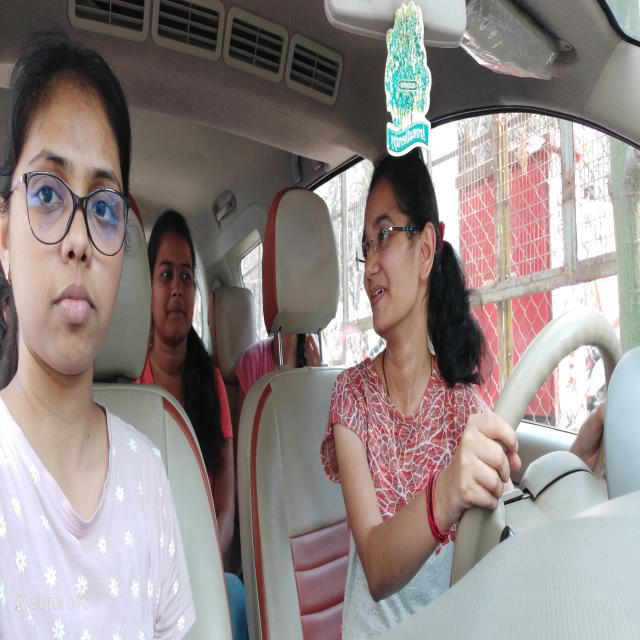LeftRight: (354, 170, 442, 338)
person: (16, 61, 131, 380), (155, 219, 201, 349)
talking: (366, 275, 393, 309)
